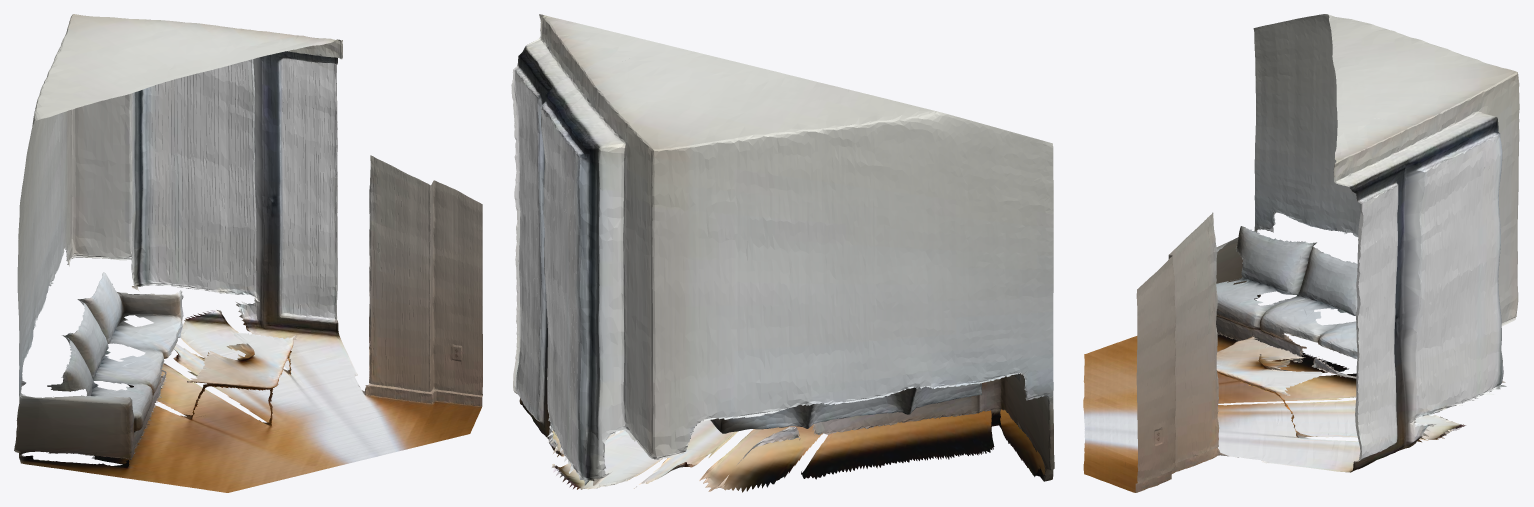
Rendered from r3d_relief_moge.glb.
The picture shows the model from 3 angles, left to right: view 1: azimuth 30°, elevation 25°; view 2: azimuth 150°, elevation 25°; view 3: azimuth 270°, elevation 25°; orthographic projection. The views are drawn at different scales.
Visible parts, largest first — view 1: Mesh_0; view 2: Mesh_0; view 3: Mesh_0.
Part boxes in pixels (bbox=[...]): Mesh_0: bbox=[14, 14, 482, 492]; Mesh_0: bbox=[511, 14, 1054, 492]; Mesh_0: bbox=[1083, 14, 1519, 492].
Size of the model in its own units: 4 by 2.91 by 3.65.
1 material, 1 textured.
